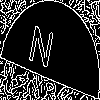N: (25, 24, 55, 79)
